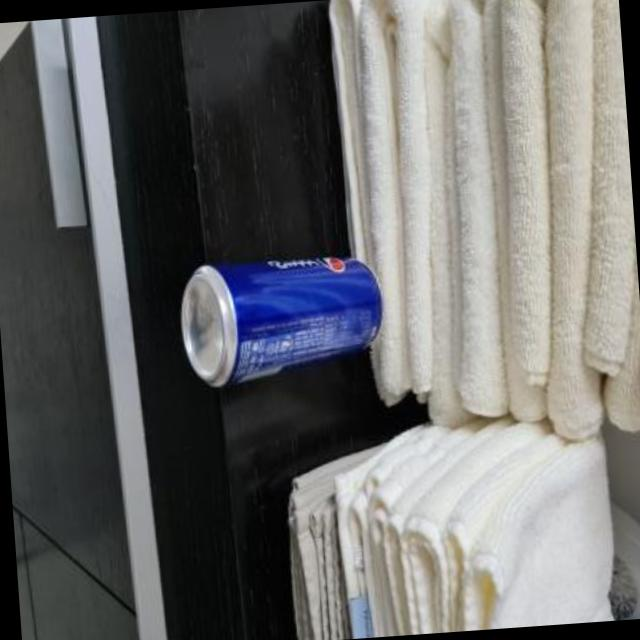metal: (184, 259, 384, 388)
